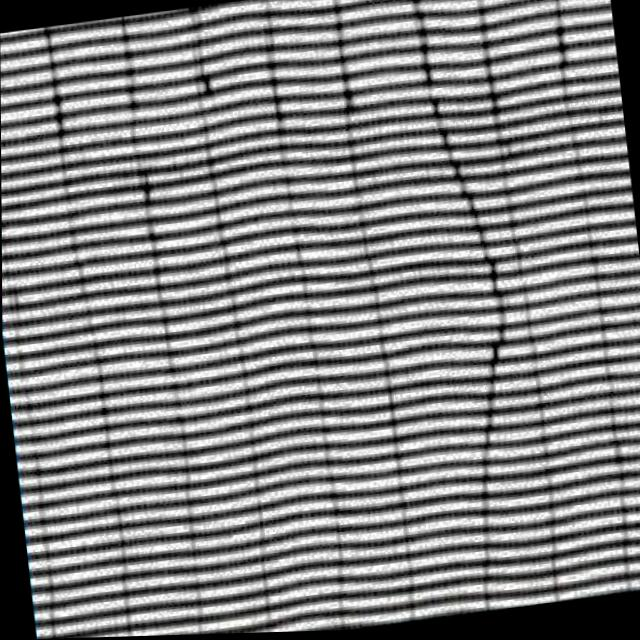Stitch: (394, 91, 560, 523)
